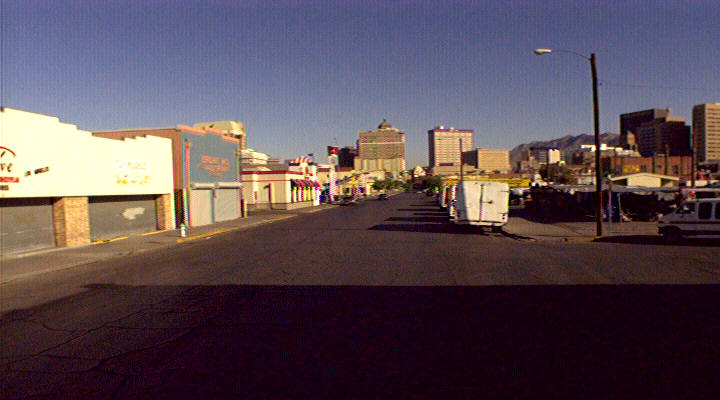Ramp: (523, 227, 578, 246)
